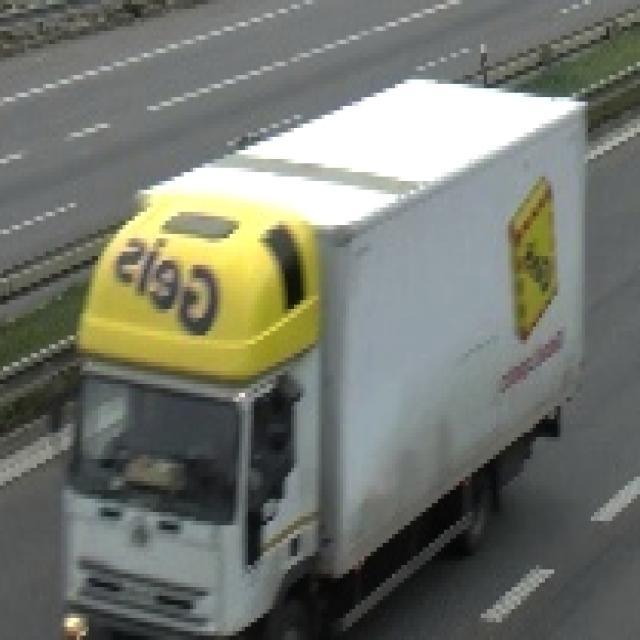truck: (47, 67, 583, 637)
